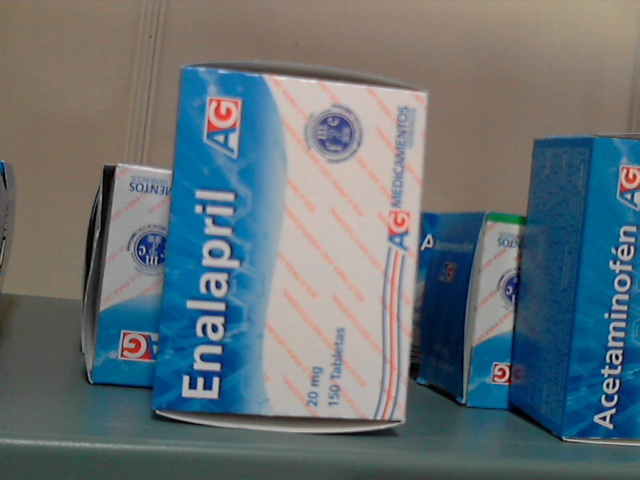AG: (154, 70, 429, 421)
